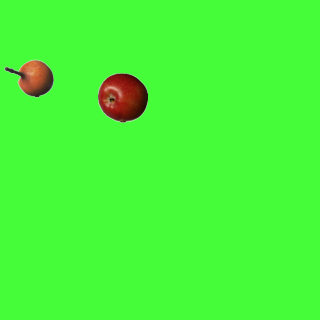Apple Braeburn: (97, 72, 147, 122)
Granadilla: (3, 53, 53, 103)
